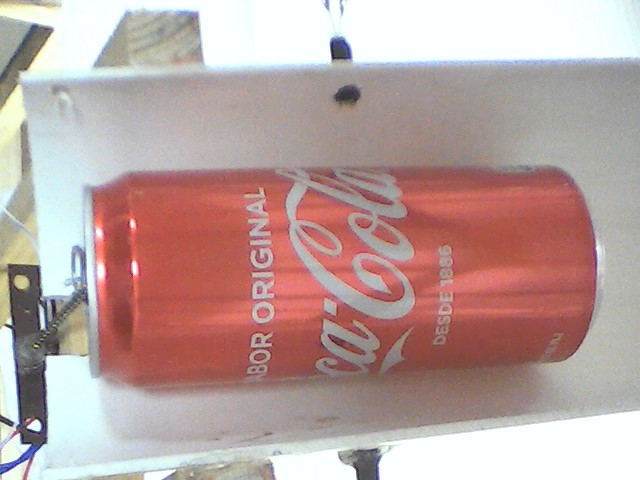lata: (68, 159, 610, 390)
